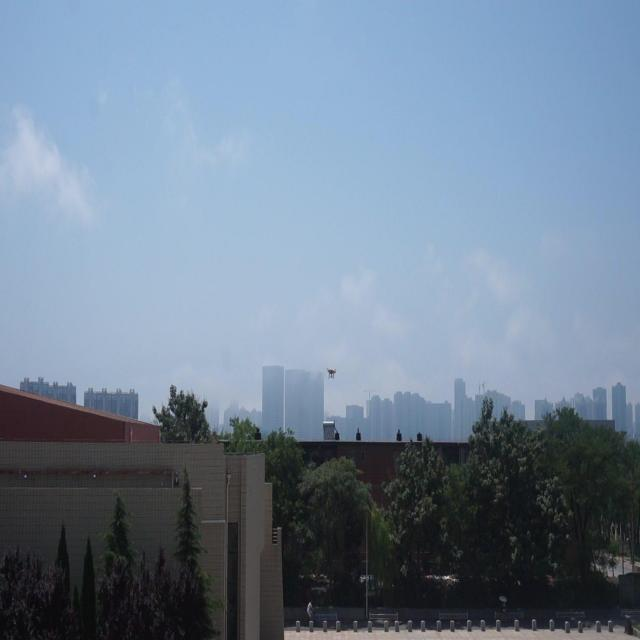UAV: (324, 368, 338, 380)
